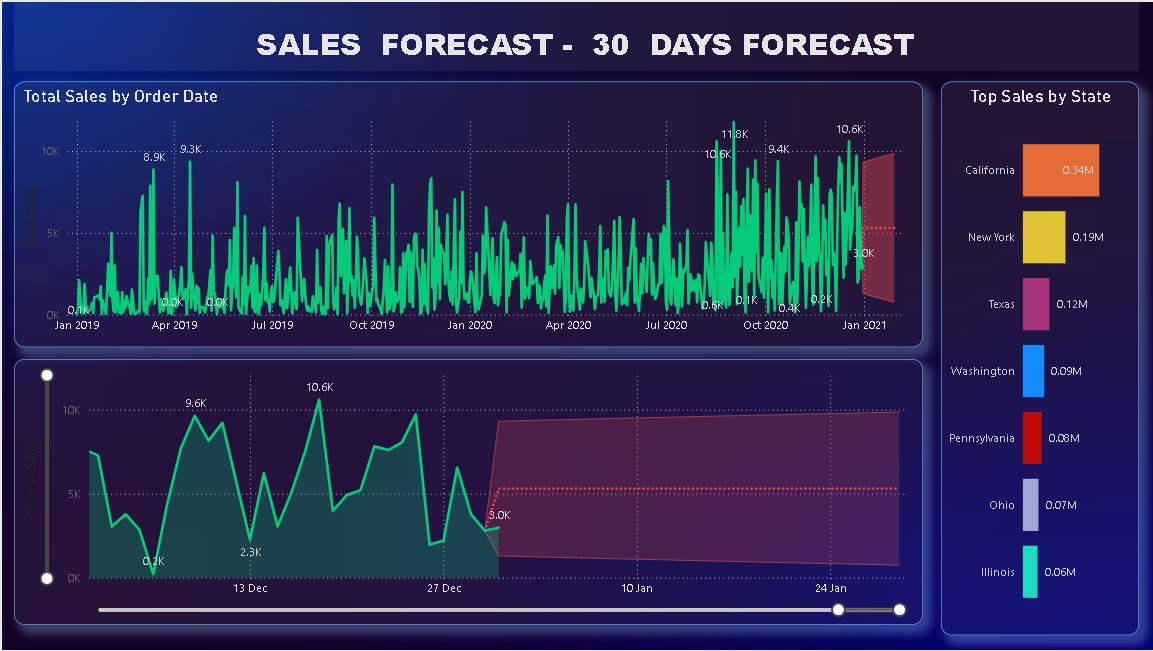

The dashboard page shown, as its layout file describes it:
{"tool":"powerbi","page":{"name":"FORECAST","canvas":[1280,720],"ordinal":2},"visuals":[{"type":"lineChart","fields":{"Y":["Sum(SuperStore_Sales_Dataset.Sales)"],"Category":["SuperStore_Sales_Dataset.Order Date"]},"box":[13.3,88.3,1010,295],"z":0},{"type":"lineChart","fields":{"Y":["Sum(SuperStore_Sales_Dataset.Sales)"],"Category":["SuperStore_Sales_Dataset.Order Date"]},"box":[13.3,396.7,1010,295],"z":1},{"type":"clusteredBarChart","title":"Top Sales by State","fields":{"Category":["SuperStore_Sales_Dataset.State"],"Y":["Sum(SuperStore_Sales_Dataset.Sales)"]},"box":[1043.3,88.3,220,615],"z":2},{"type":"textbox","box":[13.3,0,1250,76.7],"z":3}]}

Visuals, with their boxes in screenshot pixels (x1, y1, x2, y2), scaled from the page's 1280x720 canvas onto the 1153x651 screenshot:
lineChart - Sum(SuperStore_Sales_Dataset.Sales) x SuperStore_Sales_Dataset.Order Date: BBox(12, 80, 922, 347)
lineChart - Sum(SuperStore_Sales_Dataset.Sales) x SuperStore_Sales_Dataset.Order Date: BBox(12, 359, 922, 625)
"Top Sales by State" clusteredBarChart: BBox(940, 80, 1138, 636)
textbox: BBox(12, 0, 1138, 69)
